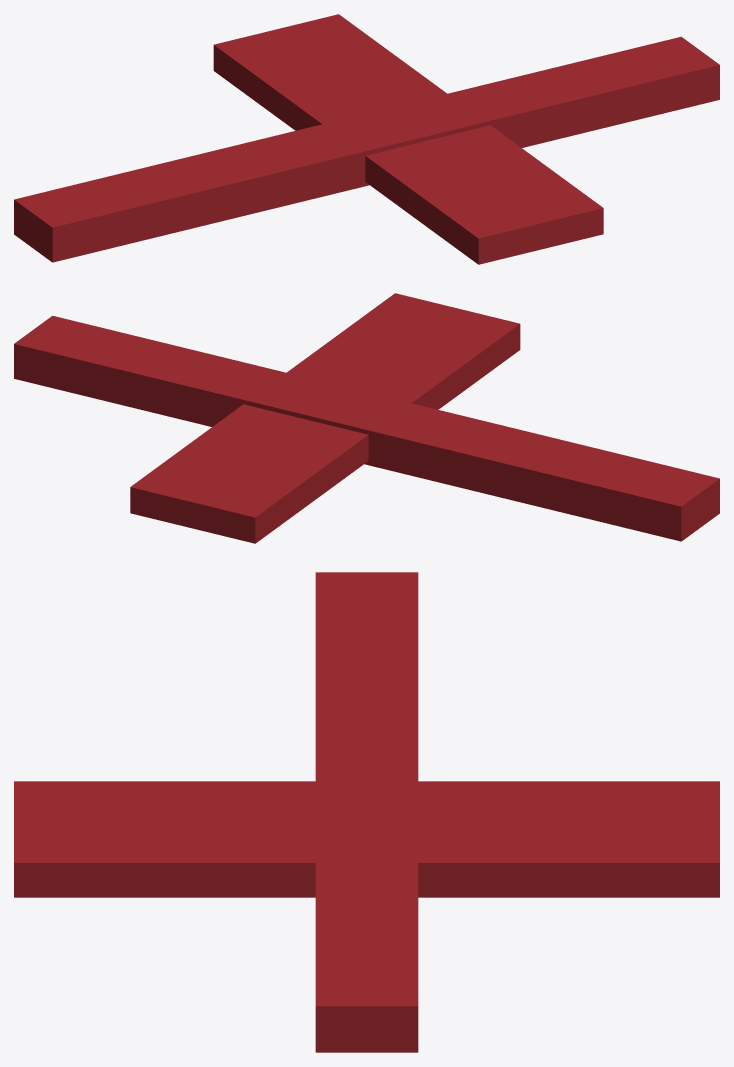
File: airmail-vane.glb
3 views of the same model, one above another, from view 1: azimuth 30°, elevation 25°; view 2: azimuth 150°, elevation 25°; view 3: azimuth 270°, elevation 25° (orthographic). The views are drawn at different scales.
Visible parts, largest first — view 1: 00_#a3262c_r320; view 2: 00_#a3262c_r320; view 3: 00_#a3262c_r320.
Boxes of the visible parts, box(x1,y1,x2,y2) form: 00_#a3262c_r320: box(14, 14, 719, 264); 00_#a3262c_r320: box(14, 293, 719, 543); 00_#a3262c_r320: box(14, 572, 719, 1052).
Bounding box in the file's own units: 1.6 × 0.08 × 1.1.
